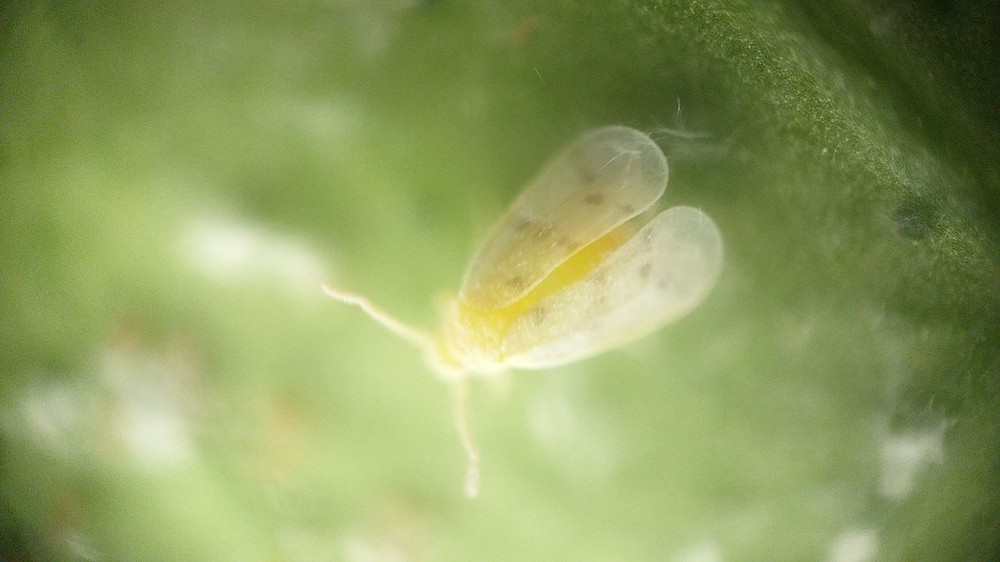Mosca Blanca: (308, 119, 738, 498)
